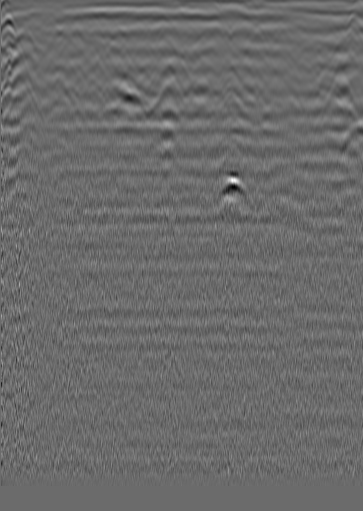가스: (211, 170, 256, 200)
상수: (336, 26, 356, 46)
오수: (9, 22, 45, 53)
우수: (155, 58, 186, 89)
